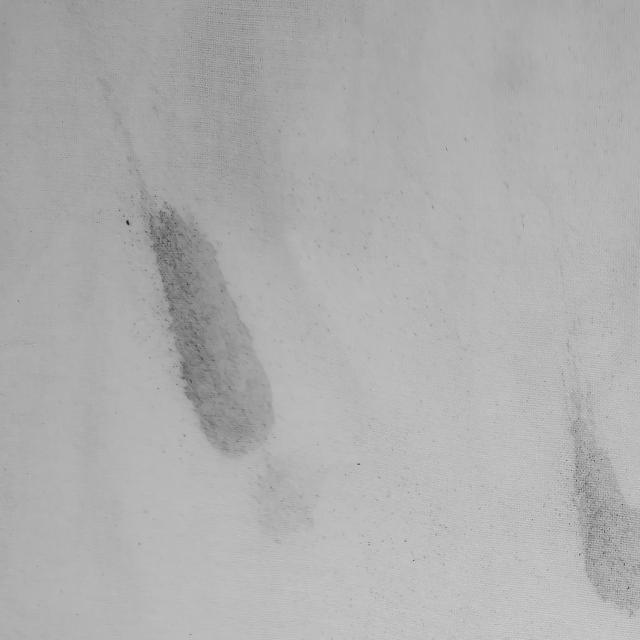Stain: (147, 202, 275, 457), (572, 393, 640, 614)
